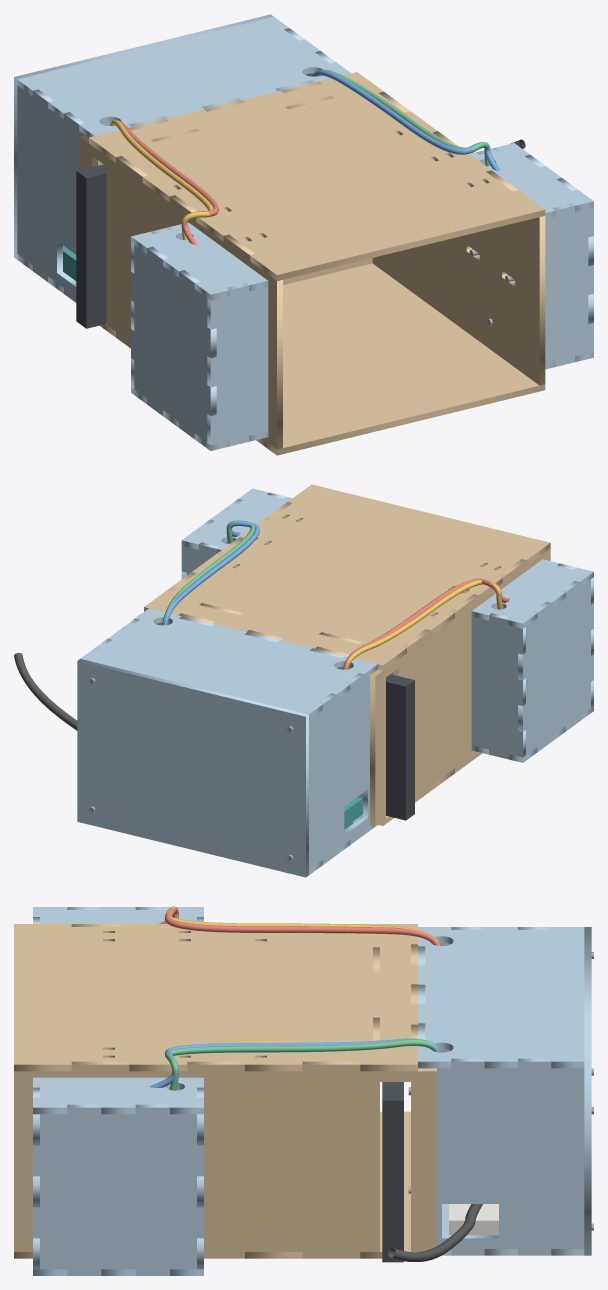
Rendered from ensamble.glb.
The picture shows the model from 3 angles, top to bottom: view 1: azimuth 30°, elevation 25°; view 2: azimuth 150°, elevation 25°; view 3: azimuth 270°, elevation 25°; orthographic projection. The views are drawn at different scales.
Visible parts, largest first — view 1: VISOR TAPA, VISOR BASE, MOCHILA ARRIBA, VISOR LADO DER, ASA IZQ FRENTE, VISOR LADO IZQ, MOCHILA IZQ, ASA IZQ ADELANTE, ASA DER ADELANTE, Teléfono (entra por la ranura del costado), ASA IZQ ARRIBA, ASA DER ARRIBA (+7 smaller); view 2: MOCHILA TAPA, VISOR TAPA, MOCHILA ARRIBA, VISOR LADO IZQ, ASA IZQ FRENTE, MOCHILA IZQ, ASA IZQ ATRAS, Teléfono (entra por la ranura del costado), ASA IZQ ARRIBA, ASA DER ARRIBA, Cable motor 2, Cable motor 3 (+4 smaller); view 3: VISOR TAPA, VISOR LADO DER, ASA DER FRENTE, MOCHILA DER, MOCHILA ARRIBA, ASA DER ARRIBA, Teléfono (entra por la ranura del costado), MOCHILA TAPA, ASA IZQ ARRIBA, Cable motor 4, VISOR BASE, Cable motor 1 (+8 smaller).
Boxes of the visible parts, left/top/right/bottom form: VISOR TAPA: left=89, top=72, right=545, bottom=280; VISOR BASE: left=100, top=263, right=545, bottom=455; MOCHILA ARRIBA: left=17, top=17, right=350, bottom=137; VISOR LADO DER: left=372, top=92, right=545, bottom=385; ASA IZQ FRENTE: left=131, top=245, right=216, bottom=442; VISOR LADO IZQ: left=80, top=135, right=282, bottom=449; MOCHILA IZQ: left=17, top=85, right=85, bottom=302; ASA IZQ ADELANTE: left=207, top=283, right=268, bottom=446; ASA DER ADELANTE: left=545, top=203, right=593, bottom=366; Teléfono (entra por la ranura del costado): left=76, top=164, right=106, bottom=328; ASA IZQ ARRIBA: left=131, top=222, right=268, bottom=300; ASA DER ARRIBA: left=469, top=143, right=593, bottom=218; MOCHILA TAPA: left=77, top=659, right=308, bottom=877; VISOR TAPA: left=144, top=484, right=550, bottom=670; MOCHILA ARRIBA: left=80, top=608, right=377, bottom=719; VISOR LADO IZQ: left=370, top=548, right=550, bottom=826; ASA IZQ FRENTE: left=518, top=579, right=593, bottom=754; MOCHILA IZQ: left=309, top=673, right=369, bottom=869; ASA IZQ ATRAS: left=471, top=613, right=525, bottom=758; Teléfono (entra por la ranura del costado): left=133, top=614, right=414, bottom=820; ASA IZQ ARRIBA: left=471, top=559, right=593, bottom=628; ASA DER ARRIBA: left=181, top=488, right=292, bottom=553; Cable motor 2: left=342, top=579, right=502, bottom=669; Cable motor 3: left=162, top=521, right=259, bottom=625; VISOR TAPA: left=14, top=924, right=417, bottom=1071; VISOR LADO DER: left=14, top=1061, right=436, bottom=1258; ASA DER FRENTE: left=33, top=1104, right=203, bottom=1275; MOCHILA DER: left=437, top=1058, right=584, bottom=1255; MOCHILA ARRIBA: left=418, top=927, right=584, bottom=1068; ASA DER ARRIBA: left=33, top=1077, right=203, bottom=1114; Teléfono (entra por la ranura del costado): left=382, top=1082, right=403, bottom=1262; MOCHILA TAPA: left=584, top=927, right=591, bottom=1255; ASA IZQ ARRIBA: left=33, top=907, right=203, bottom=923; Cable motor 4: left=165, top=1039, right=440, bottom=1090; VISOR BASE: left=14, top=1111, right=417, bottom=1258; Cable motor 1: left=159, top=907, right=440, bottom=945.
Size of the model in its own units: 252 by 95.57 by 244.
